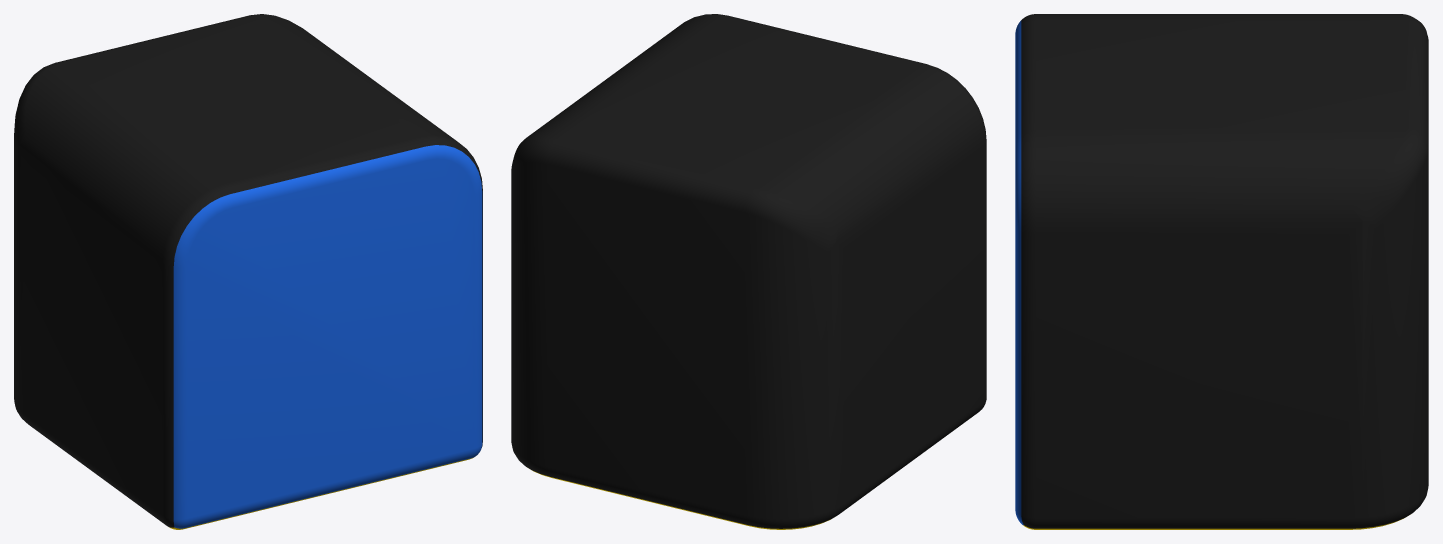
Rendered from yb_edge.glb.
The picture shows the model from 3 angles, left to right: view 1: azimuth 30°, elevation 25°; view 2: azimuth 150°, elevation 25°; view 3: azimuth 270°, elevation 25°; orthographic projection. The views are drawn at different scales.
Parts seen in each view (by area): view 1: Cube.025; view 2: Cube.025; view 3: Cube.025.
Part boxes in pixels (left/top/right/bottom): Cube.025: left=14, top=14, right=482, bottom=529; Cube.025: left=511, top=14, right=986, bottom=529; Cube.025: left=1015, top=14, right=1428, bottom=529.
Size of the model in its own units: 2 by 2 by 2.
